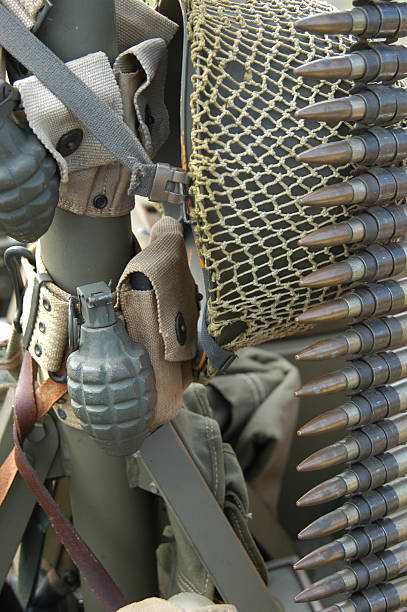e1: (65, 281, 165, 460)
